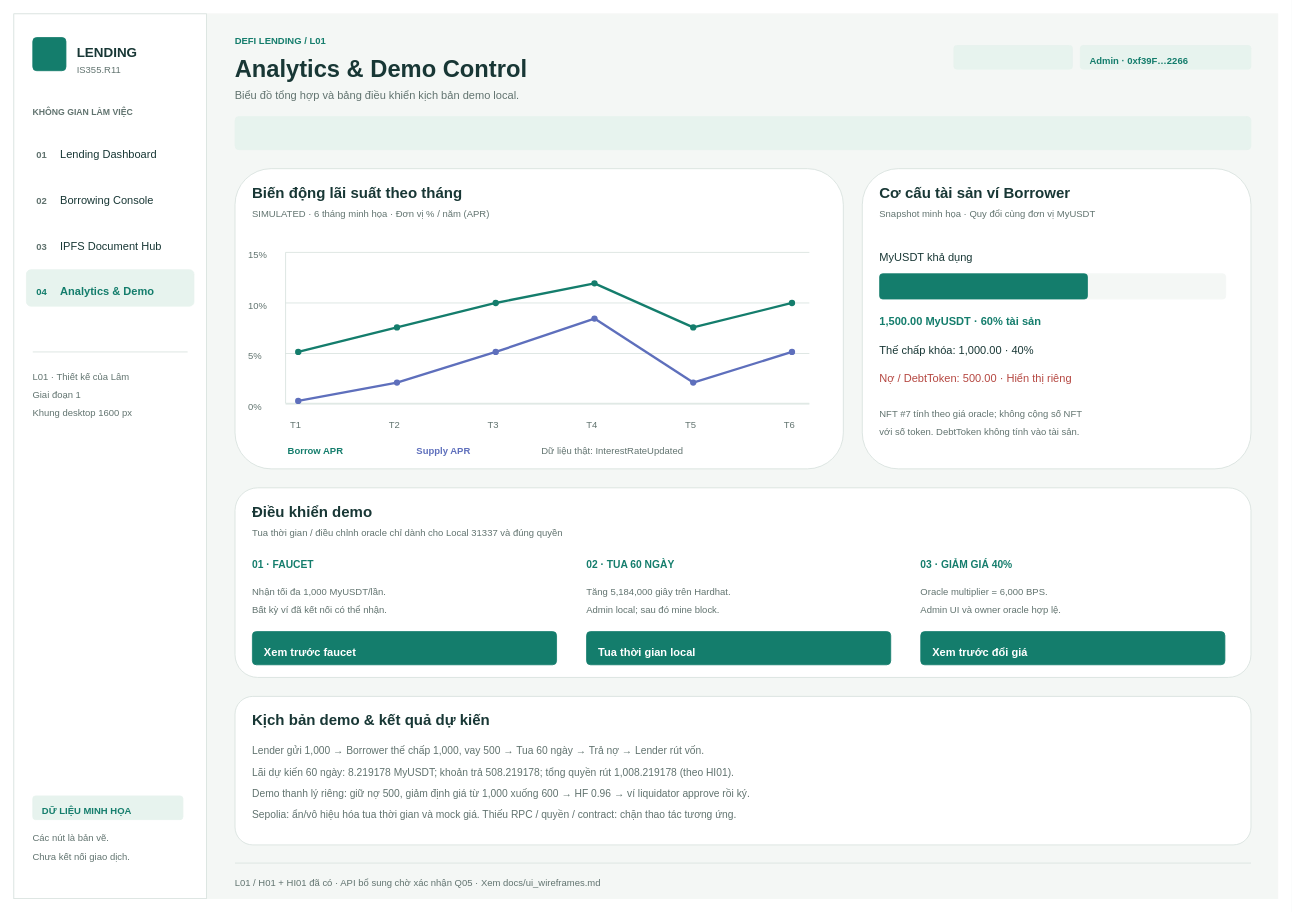
This 1292x912 diagram has some shape labels left out. Each missing label, with the centre of its shape:
"DL" goes at point 49,54.
"Local · 31337" goes at point 1012,57.
"WIREFRAME · Snapshot minh họa theo HI01 · APR on-chain / APY quy đổi tham khảo" goes at point 742,133.
